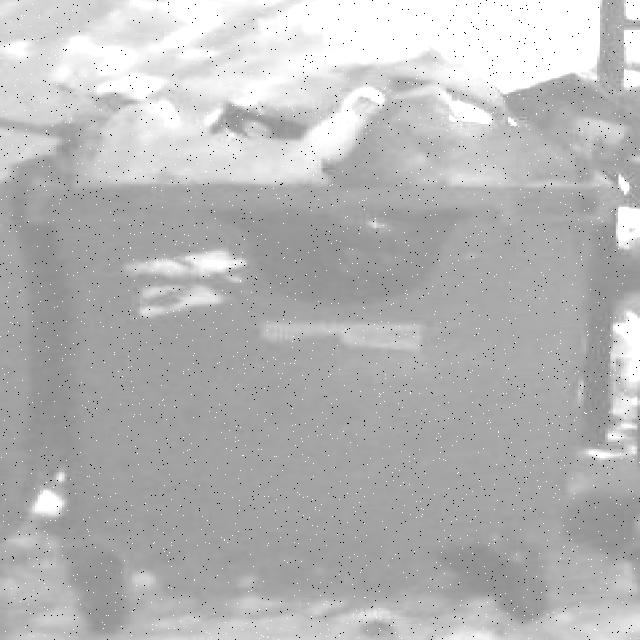Trashcan: (22, 3, 628, 616)
